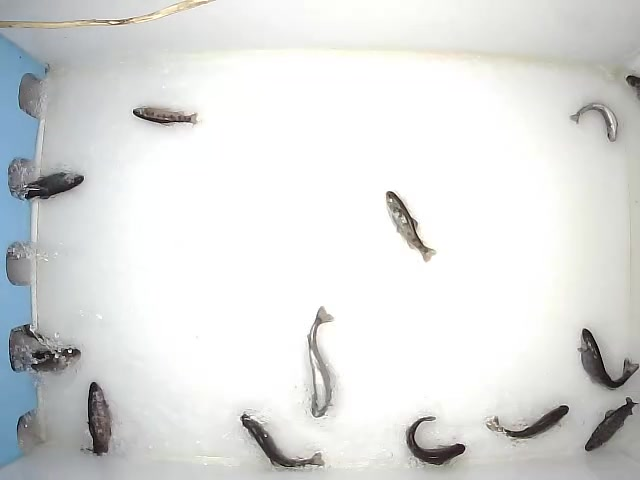fish: (238, 412, 326, 469), (574, 326, 640, 390), (383, 189, 438, 264), (305, 304, 335, 418), (403, 413, 466, 466), (582, 396, 640, 452), (484, 402, 569, 440), (82, 381, 115, 456), (11, 171, 85, 202), (567, 101, 618, 144), (131, 105, 200, 128)
